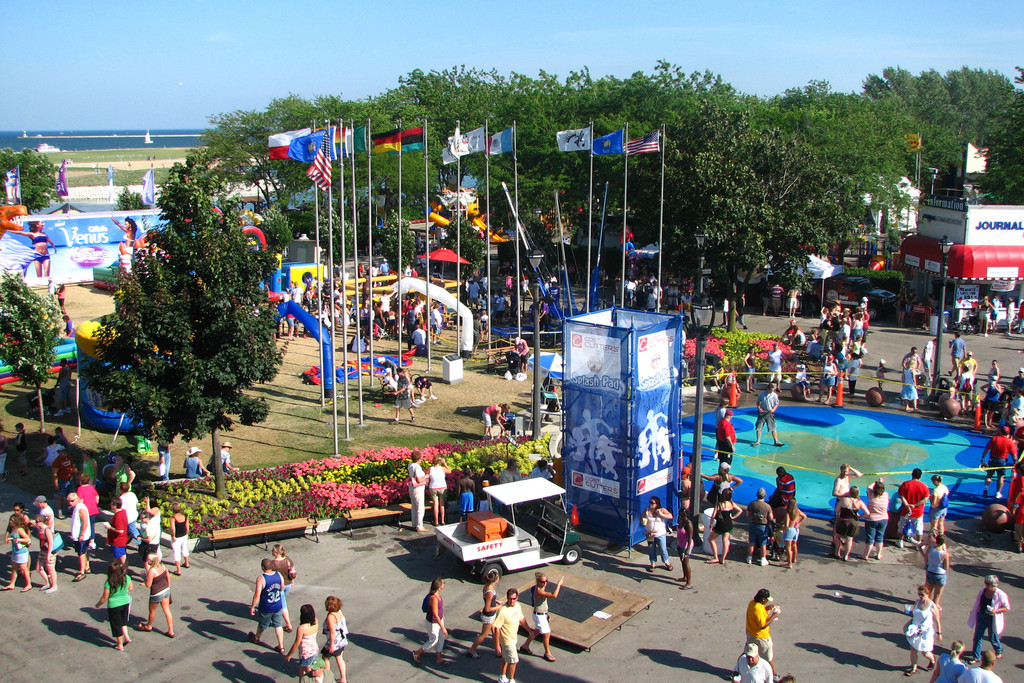Person: (0, 167, 1024, 683)
